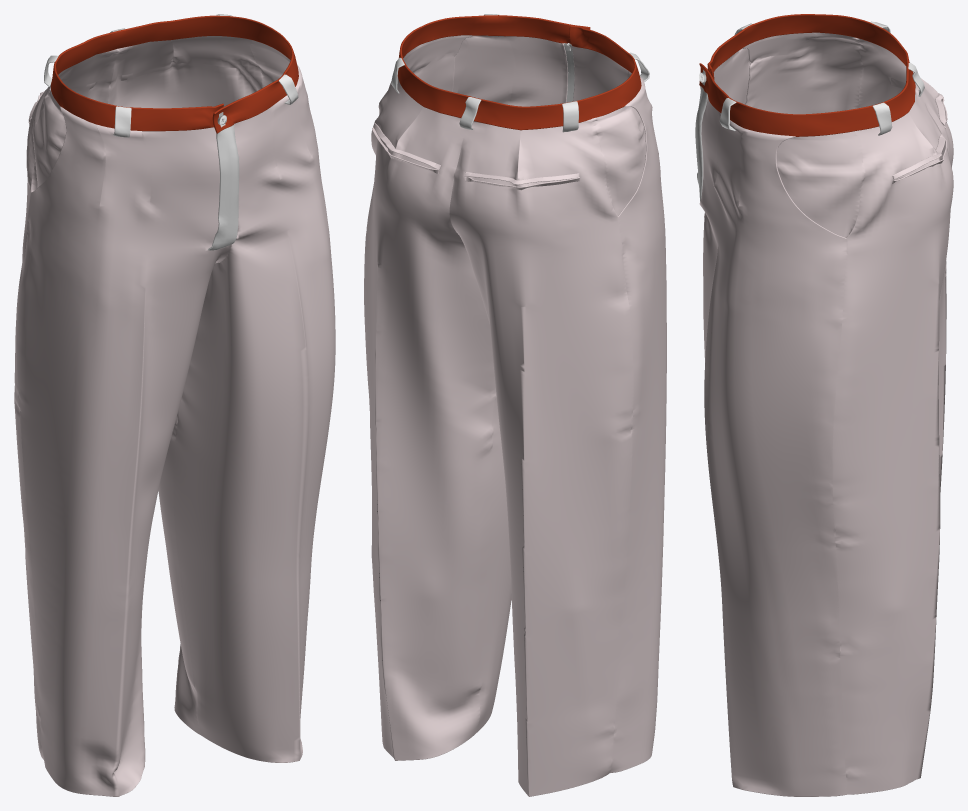
The model's file is male_white_trouser_34.glb.
3 renders of one model, left to right at view 1: azimuth 30°, elevation 25°; view 2: azimuth 150°, elevation 25°; view 3: azimuth 270°, elevation 25°, orthographic.
Visible parts, largest first — view 1: Pant+1; view 2: Pant+1; view 3: Pant+1.
Part boxes in pixels (<box>): Pant+1: <box>14,14,335,796</box>; Pant+1: <box>364,14,666,796</box>; Pant+1: <box>695,14,953,796</box>.
Bounding box in the file's own units: 0.423 × 0.9942 × 0.34.
